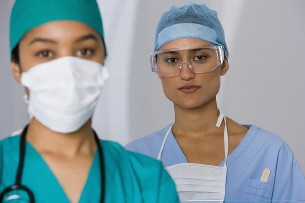Mask: (17, 32, 119, 133)
